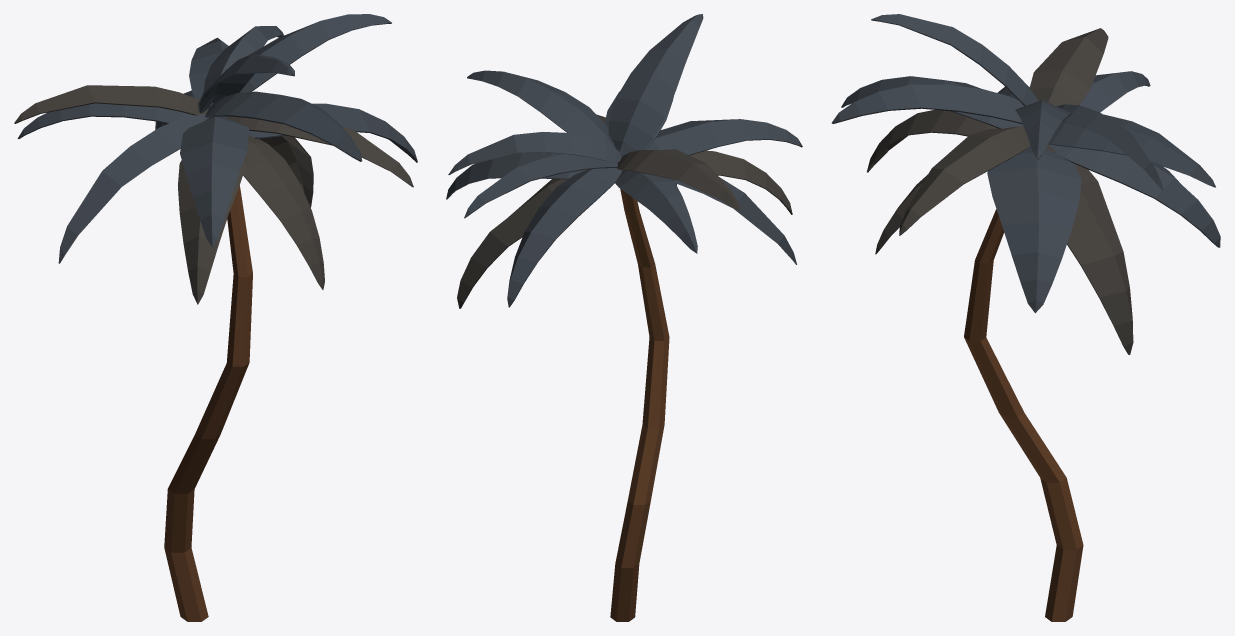
Rendered from cc0-palm-tree-lod0.glb.
The picture shows the model from 3 angles, left to right: view 1: azimuth 30°, elevation 25°; view 2: azimuth 150°, elevation 25°; view 3: azimuth 270°, elevation 25°; orthographic projection. The views are drawn at different scales.
Visible parts, largest first — view 1: part_0; view 2: part_0; view 3: part_0.
Boxes of the visible parts, bbox=[...] form: part_0: bbox=[14, 14, 417, 621]; part_0: bbox=[446, 14, 802, 621]; part_0: bbox=[831, 14, 1220, 621].
Size of the model in its own units: 2.88 by 4.47 by 2.61.
